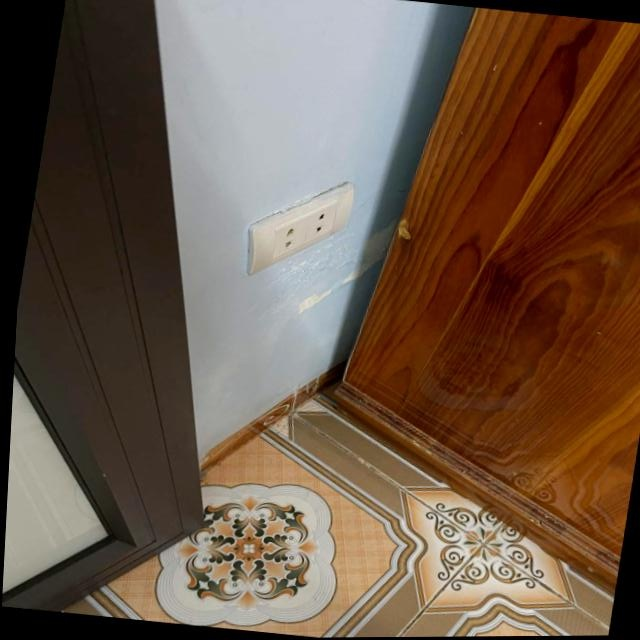outlet: (240, 172, 356, 287)
